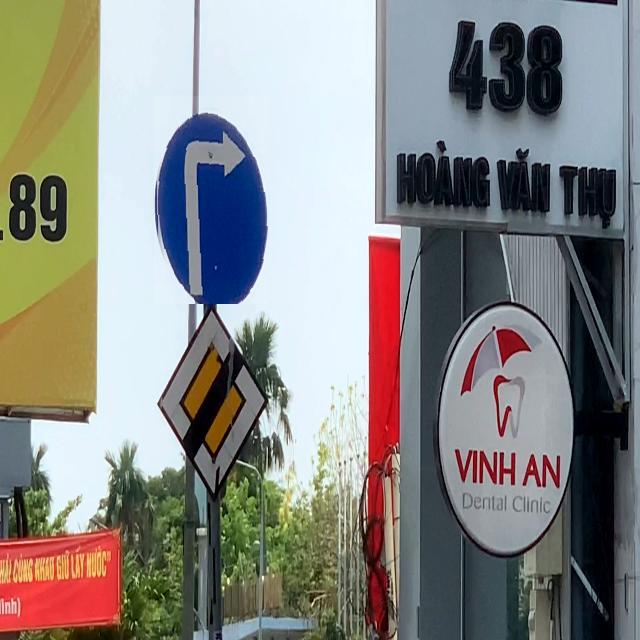R-301d: (154, 96, 268, 304)
